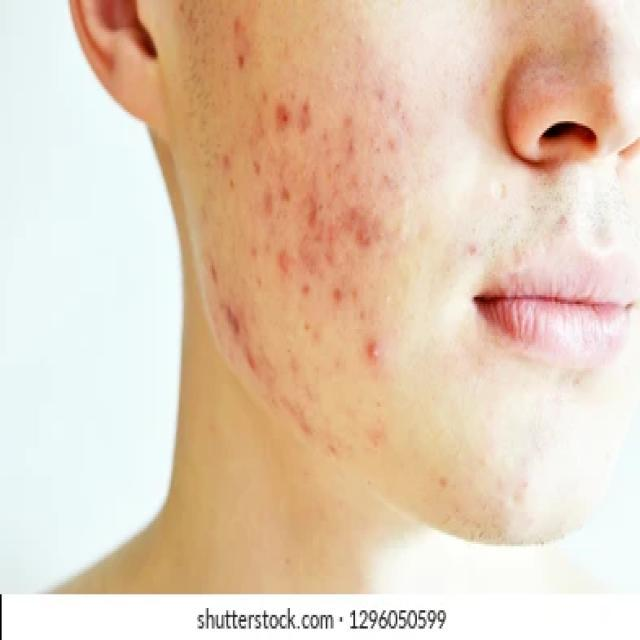nodule: (361, 336, 385, 364)
papule: (263, 352, 399, 460), (226, 10, 253, 74), (341, 200, 375, 248), (219, 291, 248, 344), (268, 92, 301, 135), (300, 189, 325, 239), (275, 245, 299, 280), (294, 275, 318, 309), (258, 189, 282, 221), (463, 237, 487, 269), (217, 145, 241, 175), (297, 98, 314, 140), (243, 336, 260, 374), (320, 243, 342, 269), (326, 280, 347, 307), (250, 154, 269, 183), (206, 262, 225, 289), (273, 183, 295, 206), (343, 138, 364, 161), (384, 136, 408, 155), (340, 115, 363, 133), (247, 242, 263, 261)
